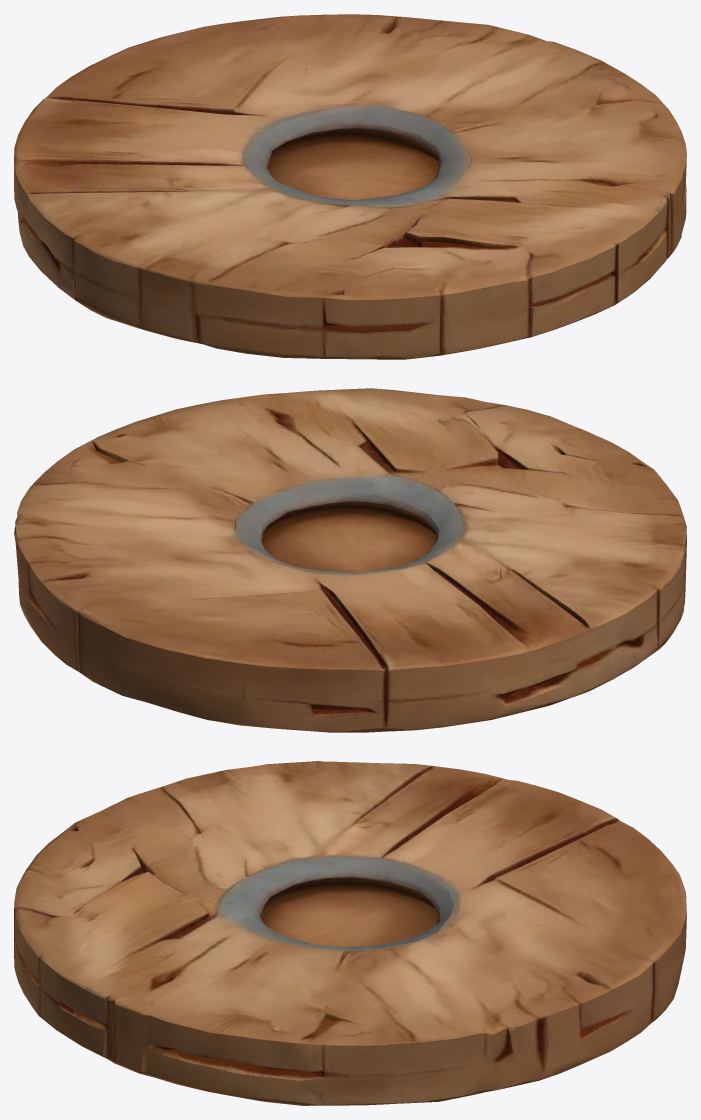
The model's file is m2CannonIsle.glb.
3 renders of one model, top to bottom at view 1: azimuth 30°, elevation 25°; view 2: azimuth 150°, elevation 25°; view 3: azimuth 270°, elevation 25°, orthographic.
Visible parts, largest first — view 1: model; view 2: model; view 3: model.
Part boxes in pixels (box(x1,y1,x2,y2)): model: box(14, 14, 686, 359); model: box(14, 388, 686, 732); model: box(14, 761, 686, 1105).
Bounding box in the file's own units: 1.9 × 0.2332 × 1.9.
1 material, 1 textured.
